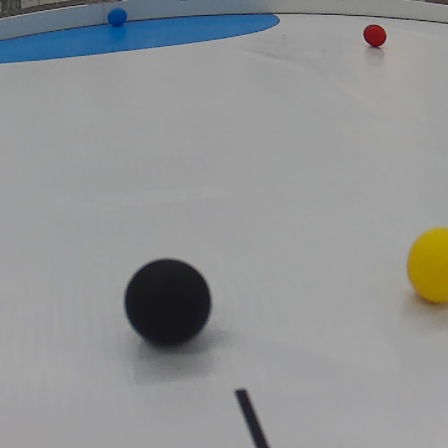black: (118, 256, 222, 350)
blue: (102, 5, 131, 28)
blue_base: (3, 12, 280, 63)
red: (359, 22, 385, 48)
yellow: (405, 226, 447, 305)
